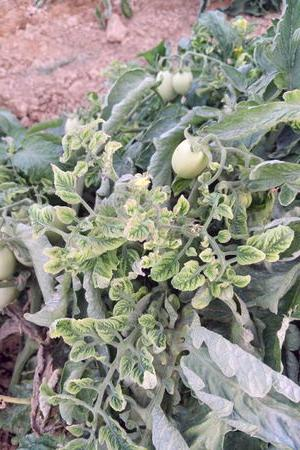Tomato leaf yellow virus: (55, 231, 113, 271), (255, 219, 297, 268), (162, 263, 209, 298), (46, 163, 82, 206), (132, 345, 160, 398), (118, 213, 163, 243), (148, 251, 185, 286), (45, 315, 86, 346), (105, 277, 137, 316), (230, 241, 262, 271), (29, 202, 54, 239), (93, 318, 122, 340)
